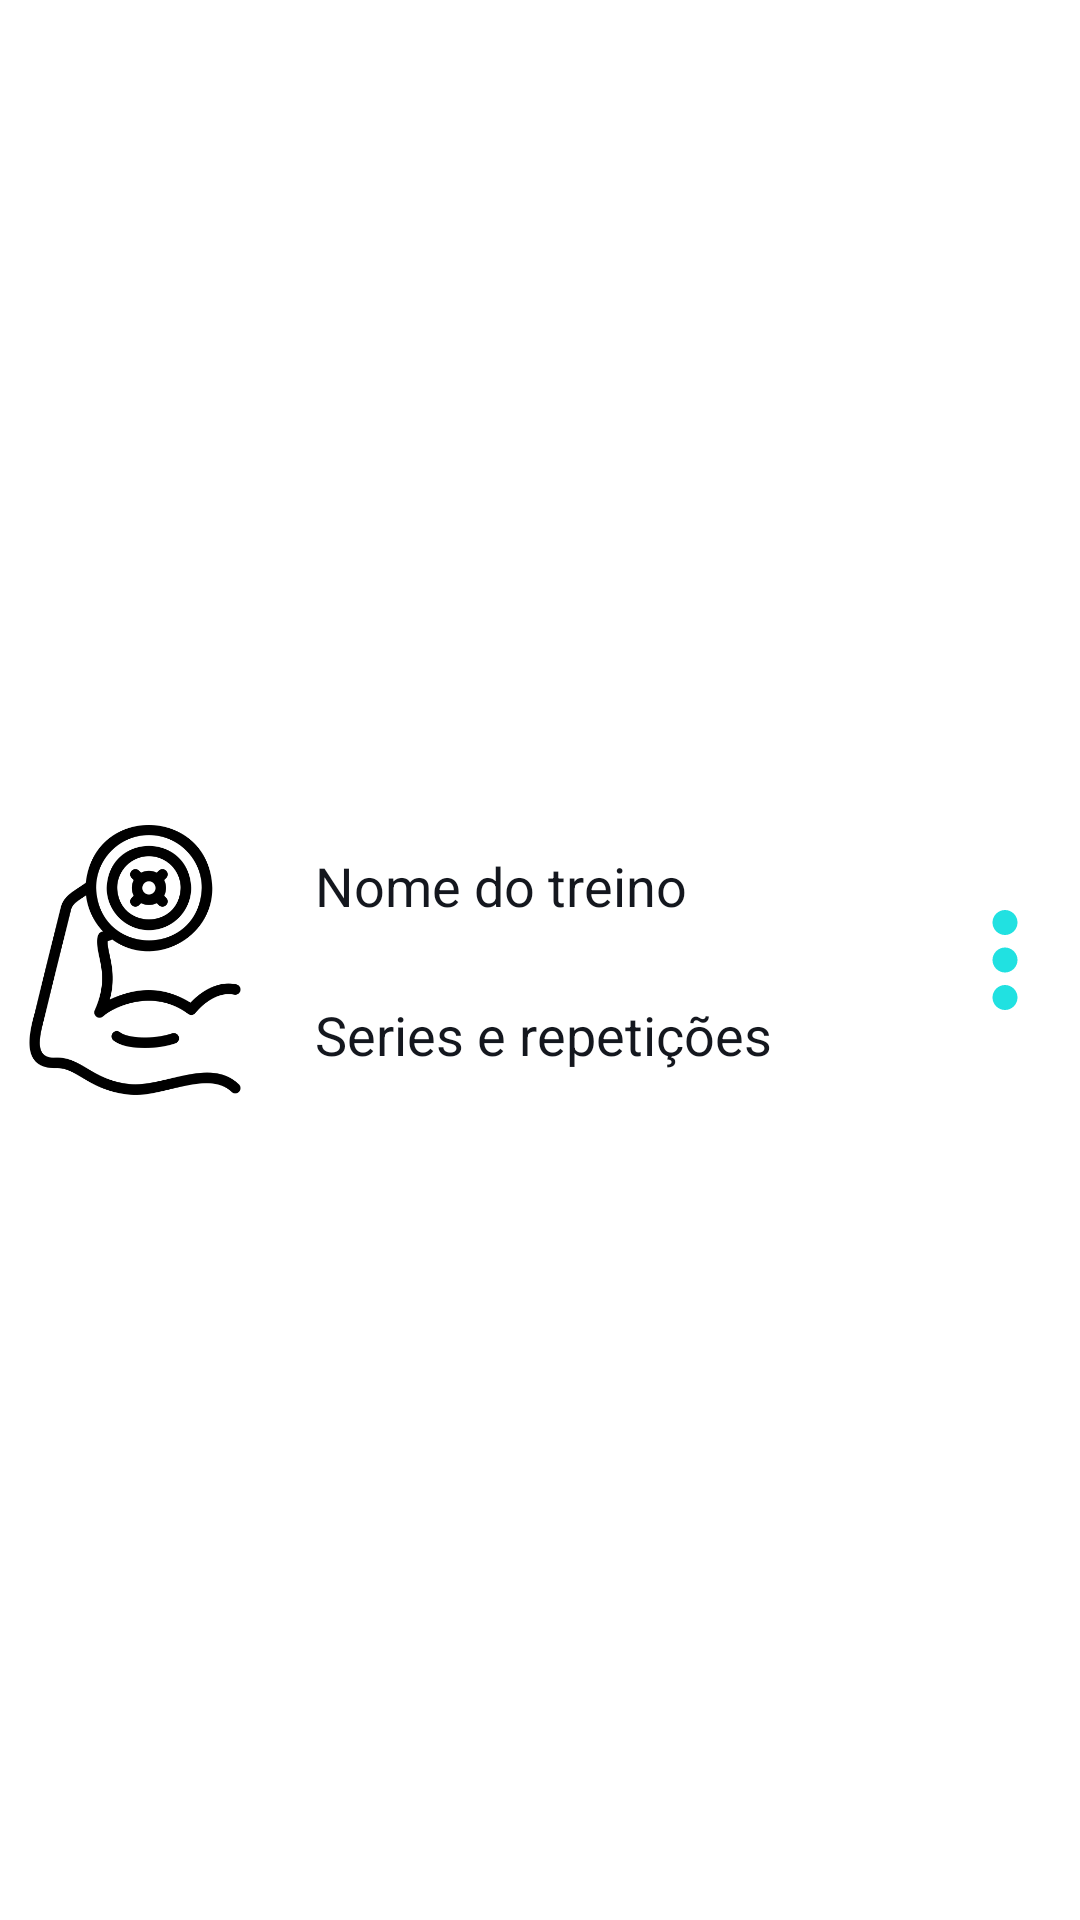

Point at icon controls on the screen. Image size 1080x1920, points as (x=x, y=y).
more: (x=1005, y=960)
musculo: (x=135, y=960)
